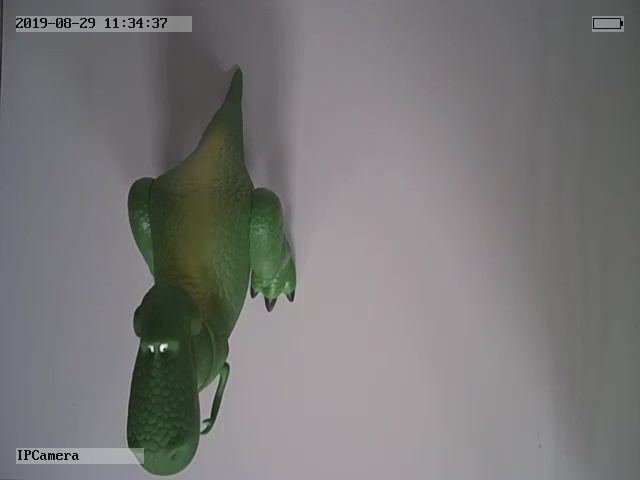rex: (125, 64, 301, 475)
